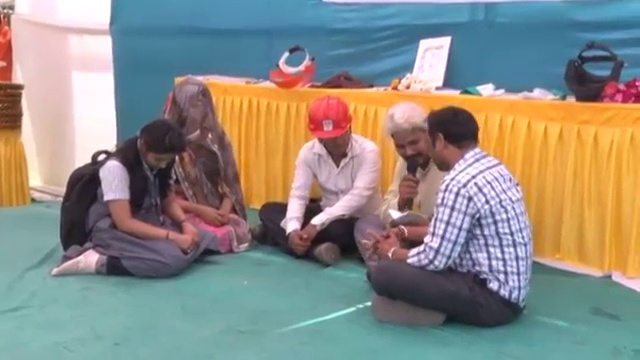helmet: (307, 93, 354, 139)
helmet_off: (425, 107, 482, 176), (385, 99, 435, 175), (131, 119, 188, 174), (167, 77, 218, 137)
helmet_on: (305, 99, 360, 162)
person: (362, 107, 540, 324), (49, 117, 217, 282), (254, 91, 385, 267), (354, 99, 455, 263), (165, 75, 246, 253)
